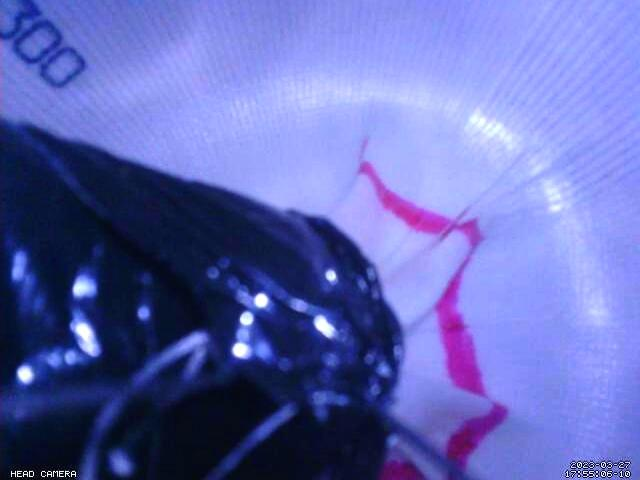red-circle: (357, 160, 510, 480)
